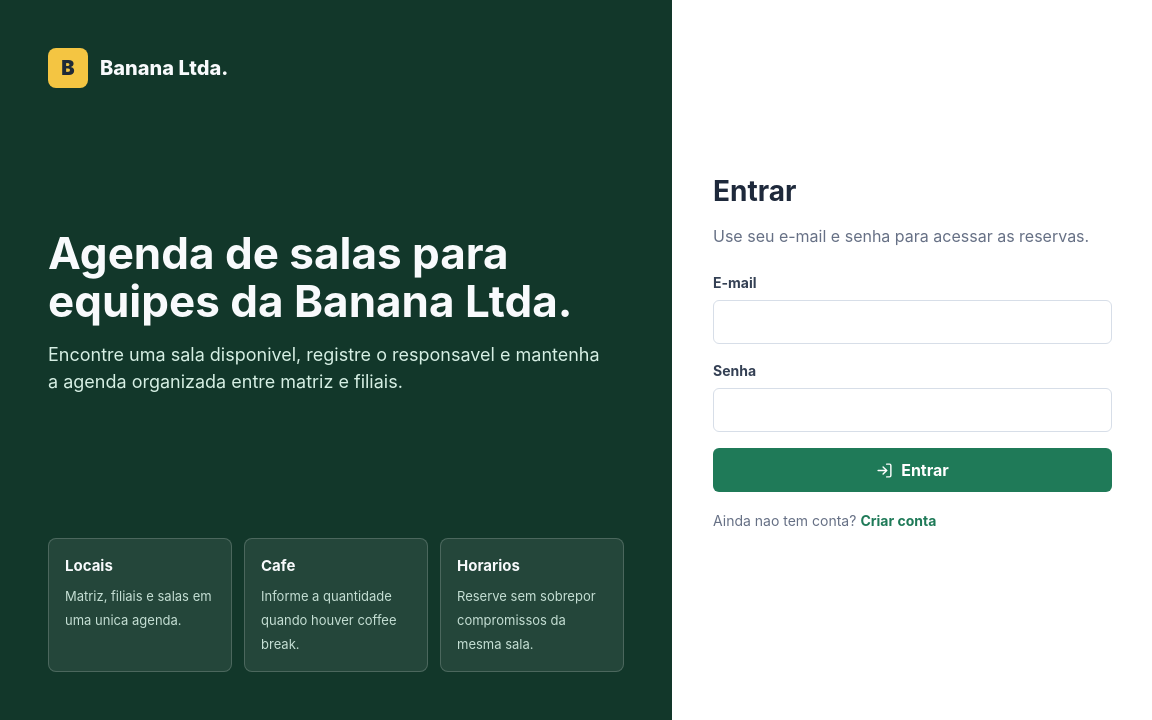
Test: App auth flow › validates required login fields
Click the button "Entrar".
click(912, 470)  # box [713, 448, 1112, 492]
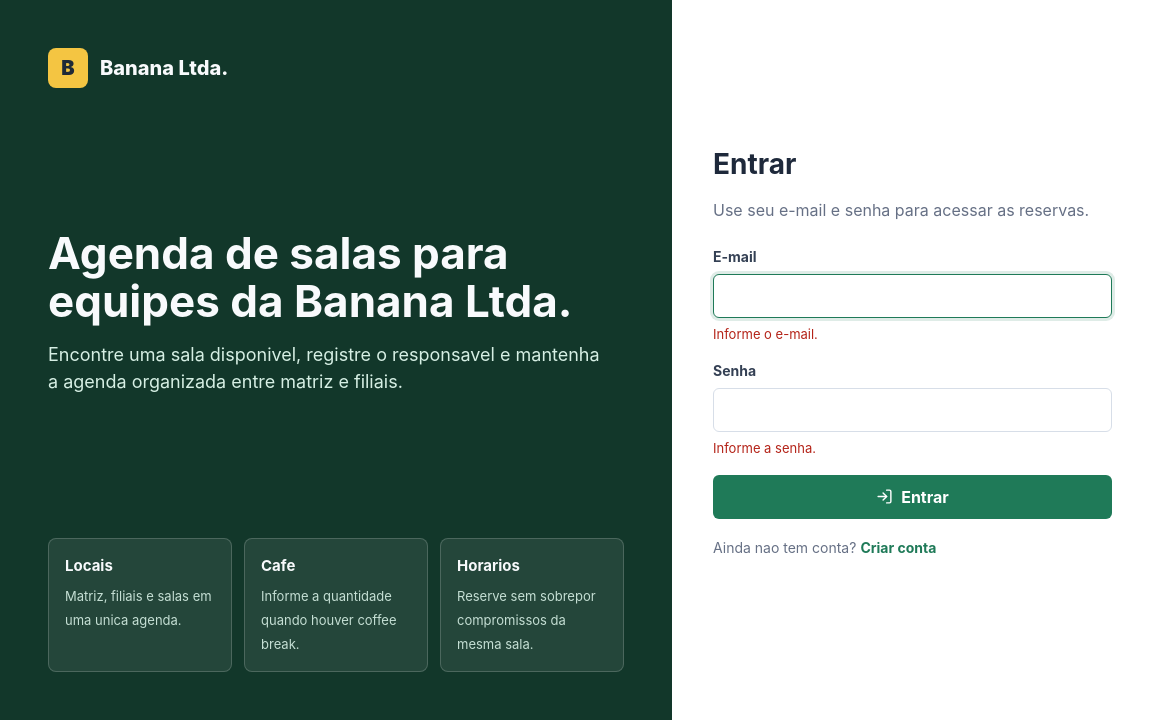
Check: the text "Informe o e-mail." is shown, box [713, 326, 818, 342]
Check: the text "Informe a senha." is shown, box [713, 440, 816, 456]
